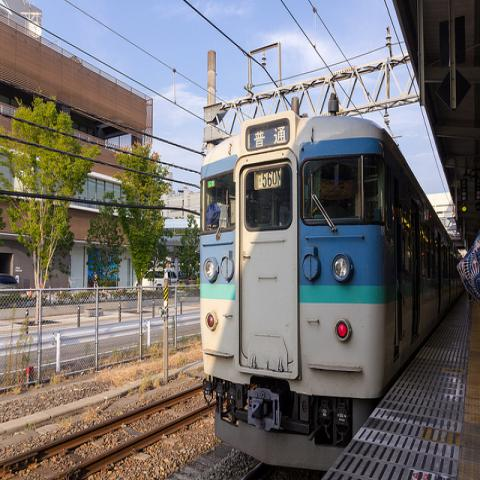car: (142, 267, 178, 299), (0, 273, 22, 290)
